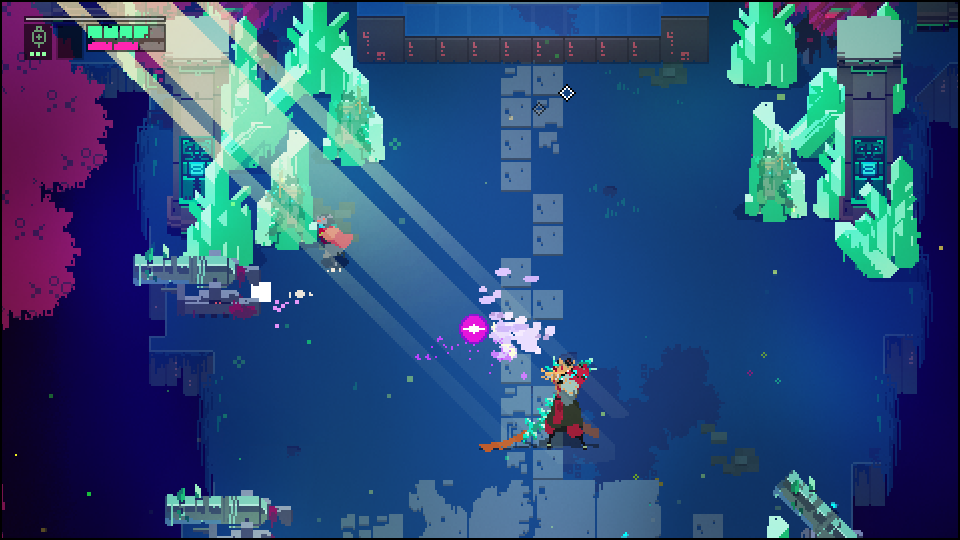hanged_man: (522, 356, 596, 452)
hanged_shot: (459, 314, 488, 344)
player: (317, 218, 356, 266)
